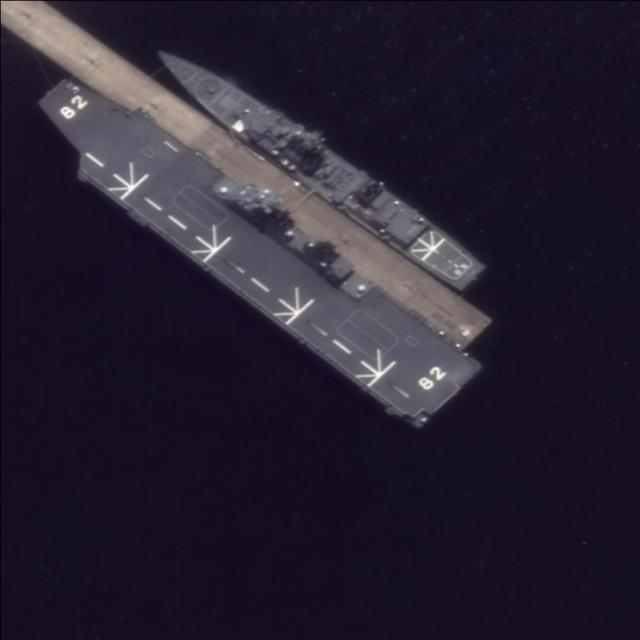Destroyer: (19, 54, 478, 437), (138, 32, 491, 299)
